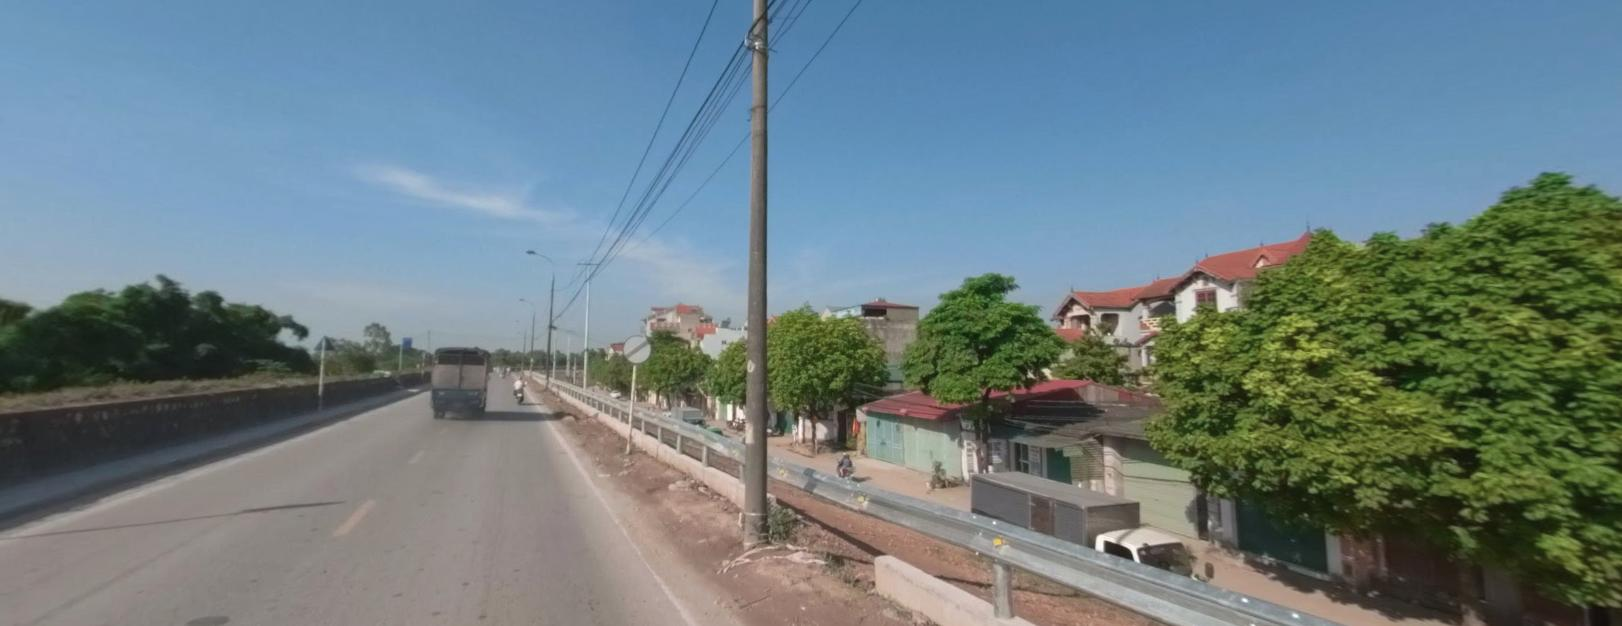Cam con lai: (623, 335, 649, 361)
